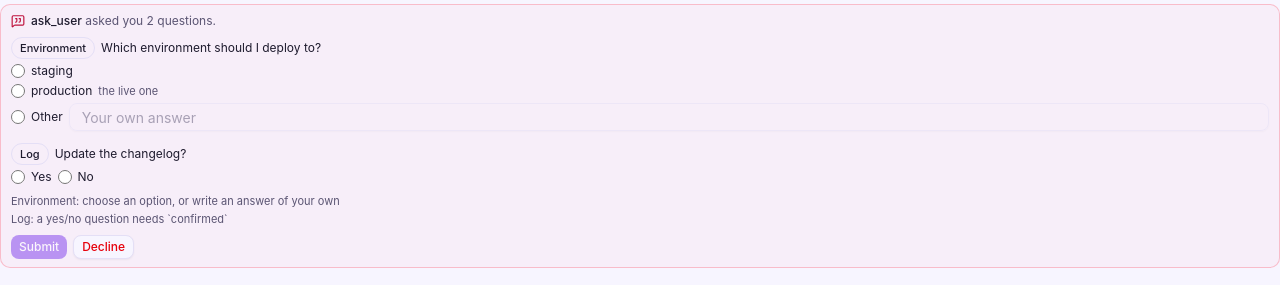
it: AskUserForm (#310) › holds Submit until every question is answered, naming what is missing
Expected: the button "Submit" is disabled, [11,235,67,259]
Expected: the list item "Environment: choose an option, or write an answer of your own" is shown, [11,194,340,208]
What coordinates should you click on to do the following:
click the radio button labelled "staging"
I would click on:
 (18, 71)
Its box is [11,64,25,78].
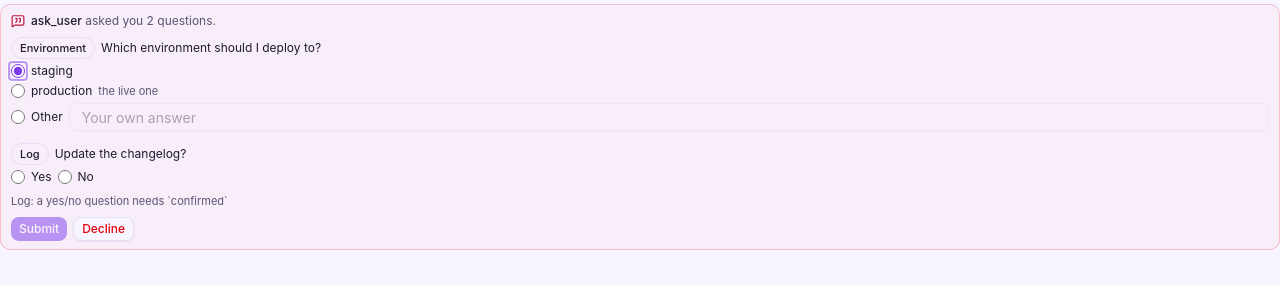
Expected: the button "Submit" is disabled, [11,217,67,241]
What coordinates should you click on to do the following:
click the radio button labelled "Yes"
I would click on:
 (18, 177)
Its box is [11,170,25,184].
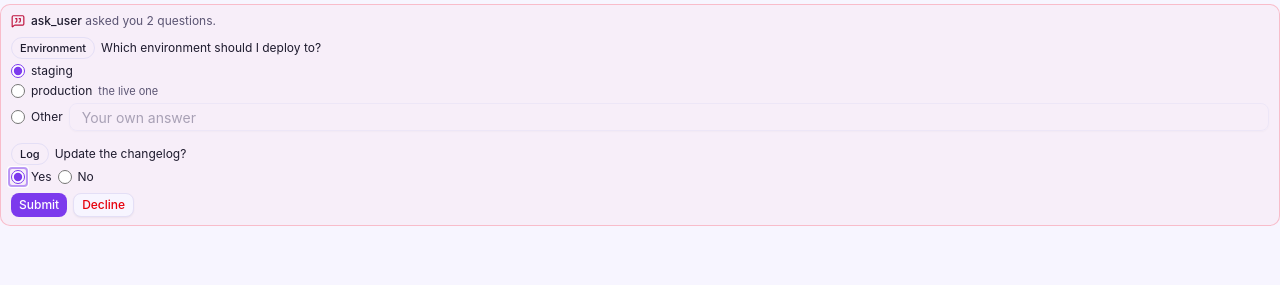
Expected: the button "Submit" is enabled, [11,193,67,217]
